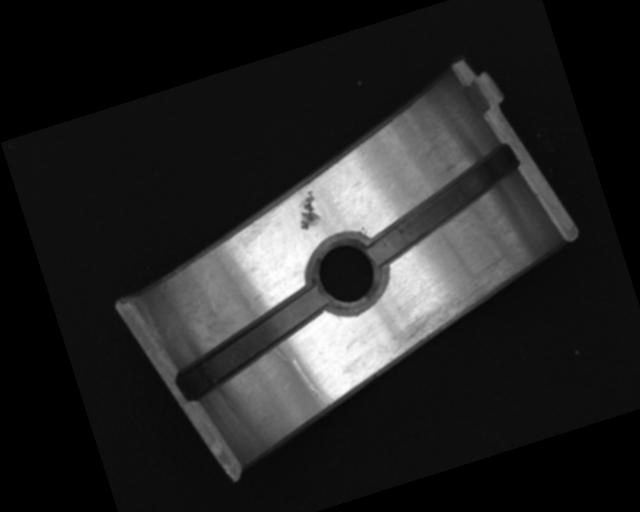bruise: (290, 188, 325, 232)
gap: (351, 141, 533, 268), (161, 285, 340, 402)
hole: (296, 226, 395, 321)
nick: (293, 351, 336, 412)
scratch: (320, 244, 544, 387)
